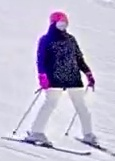skier: (1, 11, 115, 157)
